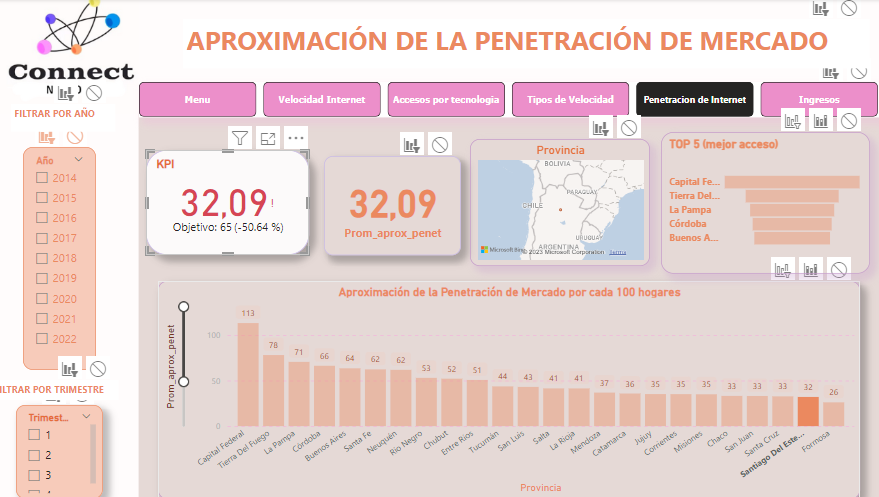

What the dashboard file says about the page in this screenshot:
{"tool":"powerbi","page":{"name":"Penetracion de Internet","canvas":[1280,720],"ordinal":4},"visuals":[{"type":"pageNavigator","box":[212.8,119.7,1067.2,50.8],"z":0},{"type":"clusteredColumnChart","title":"Aproximación de la Penetración de Mercado por cada 100 hogares","fields":{"Y":["Internet_Penetracion.KPI_aprox_penet"],"Category":["Internet_Penetracion.Provincia"]},"box":[240.5,406.1,1010.9,313.9],"z":1000},{"type":"slicer","fields":{"Values":["Internet_Penetracion.Año.Variación.Jerarquía de fechas.Año"]},"box":[46.1,213.1,105.1,321.1],"z":2000},{"type":"textbox","box":[28.8,151.2,149.8,40.3],"z":3000},{"type":"textbox","box":[276.5,28.8,989.3,70.6],"z":4000},{"type":"card","fields":{"Values":["Internet_Penetracion.Promedio_accesos"]},"box":[479.5,226.1,197.3,142.6],"z":5000},{"type":"map","fields":{"Category":["Internet_Penetracion.Provincia"]},"box":[689.8,201.6,259.2,182.9],"z":6000},{"type":"funnel","title":"TOP 5 (mejor acceso)","fields":{"Category":["Internet_Penetracion.Provincia"],"Y":["Internet_Penetracion.Promedio_accesos"]},"box":[964.8,191.5,301,204.5],"z":7000},{"type":"slicer","fields":{"Values":["Internet_Penetracion.Trimestre"]},"box":[36,584.6,125.3,135.4],"z":8000},{"type":"textbox","box":[0,548.6,184.3,28.8],"z":9000},{"type":"kpi","title":"KPI","fields":{"Goal":["Internet_Penetracion.KPI_acceso"],"Indicator":["Internet_Penetracion.Prom_aprox_penet"],"TrendLine":["Internet_Penetracion.Provincia"]},"box":[223.2,217.4,234.7,151.2],"z":9001}]}

Visuals, with their boxes on the page's 1280x720 design canvas (x1, y1, x2, y2). These are canvas units, not pixel positions in the 879x497 screenshot, which may show the page scaled, cropped or inside an application window:
pageNavigator: bbox=(213, 120, 1280, 170)
"Aproximación de la Penetración de Mercado por cada 100 hogares" clusteredColumnChart: bbox=(240, 406, 1251, 720)
slicer - Internet_Penetracion.Año.Variación.Jerarquía de fechas.Año: bbox=(46, 213, 151, 534)
textbox: bbox=(29, 151, 179, 192)
textbox: bbox=(276, 29, 1266, 99)
card - Internet_Penetracion.Promedio_accesos: bbox=(480, 226, 677, 369)
map - Internet_Penetracion.Provincia: bbox=(690, 202, 949, 384)
"TOP 5 (mejor acceso)" funnel: bbox=(965, 192, 1266, 396)
slicer - Internet_Penetracion.Trimestre: bbox=(36, 585, 161, 720)
textbox: bbox=(0, 549, 184, 577)
"KPI" kpi: bbox=(223, 217, 458, 369)
